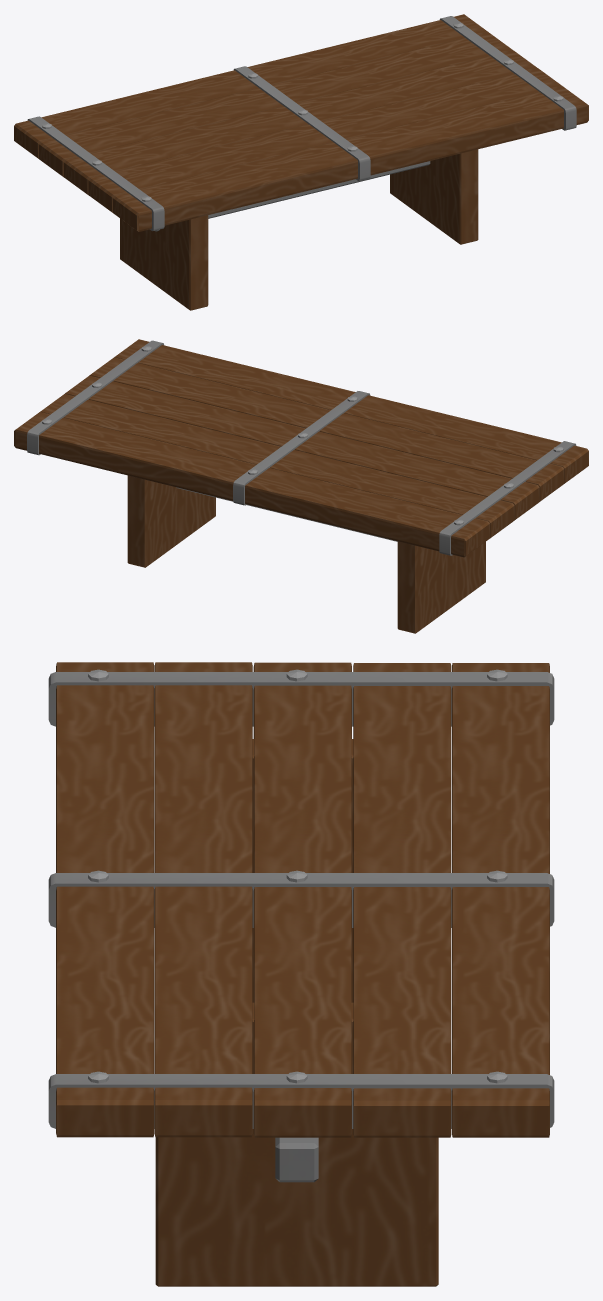
File: New_Table_2.fbx
3 views of the same model, one above another, from view 1: azimuth 30°, elevation 25°; view 2: azimuth 150°, elevation 25°; view 3: azimuth 270°, elevation 25° (orthographic). The views are drawn at different scales.
Parts seen in each view (by area): view 1: pCube24; view 2: pCube24; view 3: pCube24.
Boxes of the visible parts, <box> form: pCube24: <box>14,14,588,310</box>; pCube24: <box>14,339,588,633</box>; pCube24: <box>48,662,554,1286</box>.
Size of the model in its own units: 356 by 104 by 172.
